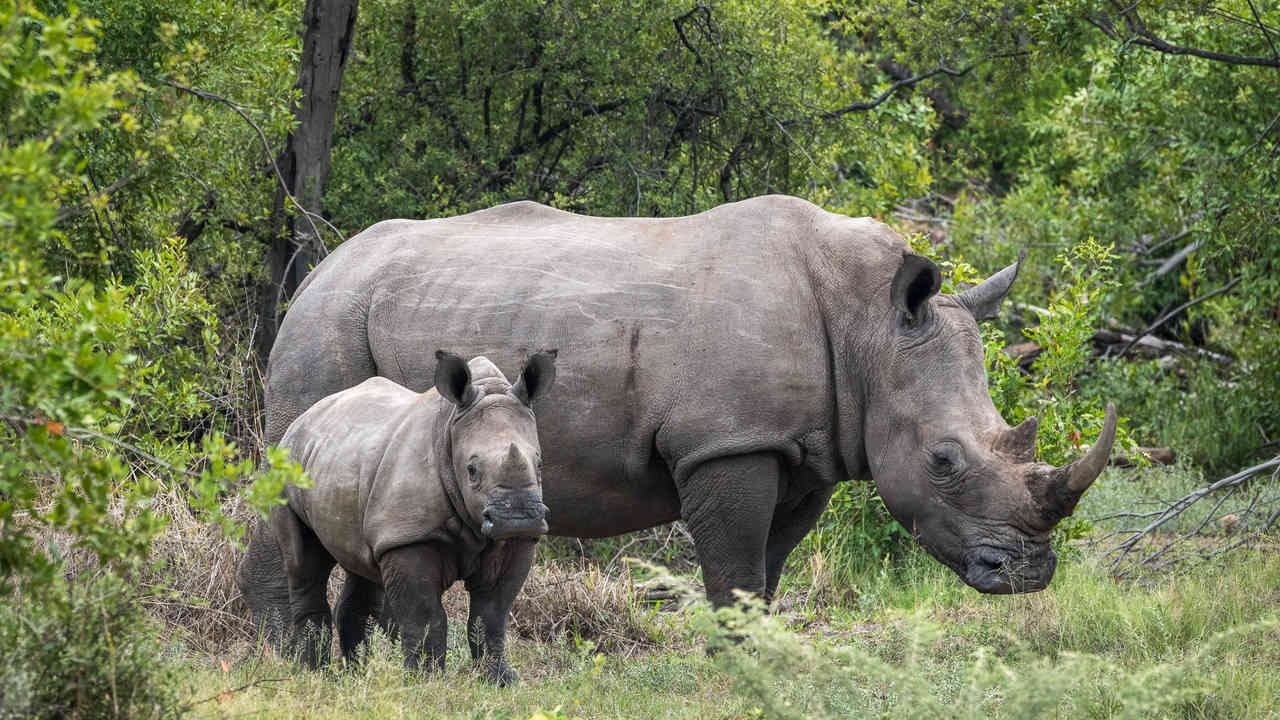rhino: (263, 195, 1116, 632), (264, 341, 560, 686)
